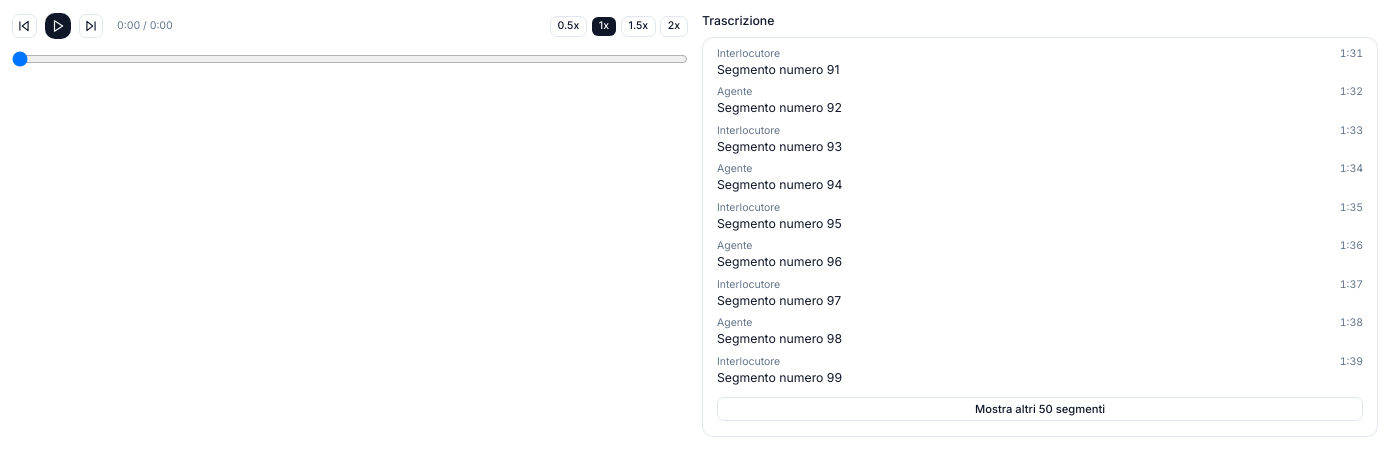
Scenario: RecordingPlayer › paginates very long transcripts and shows a "more segments" button
The width and height of the screenshot is (1378, 454).
(page scrolled)
Expected: the text "Segmento numero 99" is shown, [717,370,842,384]
Expected: the list is shown, [702,36,1377,436]
Click the button "Mostra altri 50 segmenti" at (1040,409), box [717,397,1363,421]
(page scrolled)
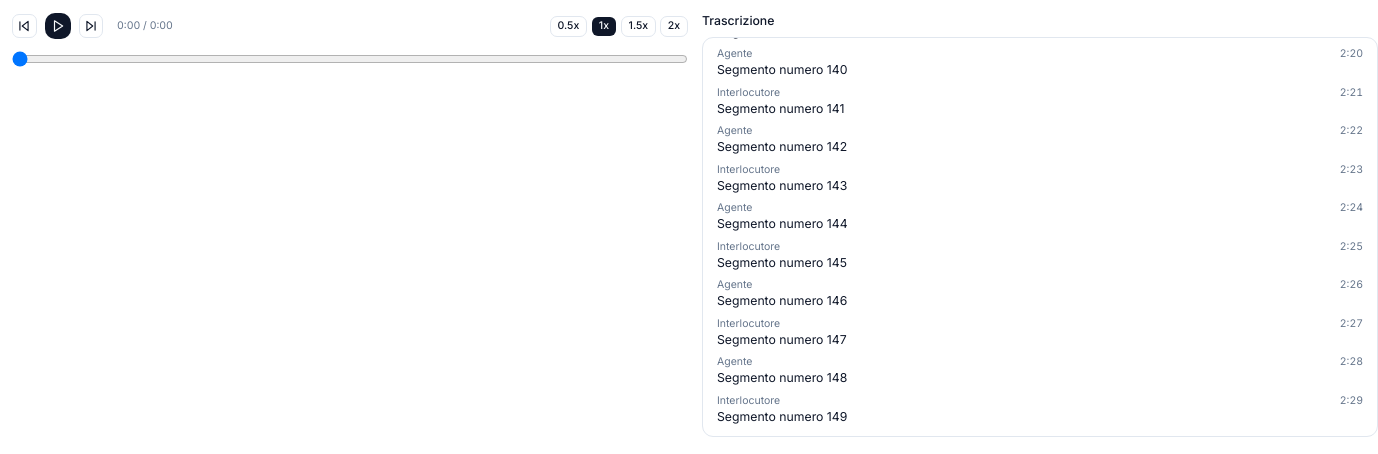
Now the text "Segmento numero 149" is shown, box [717,408,847,424]
